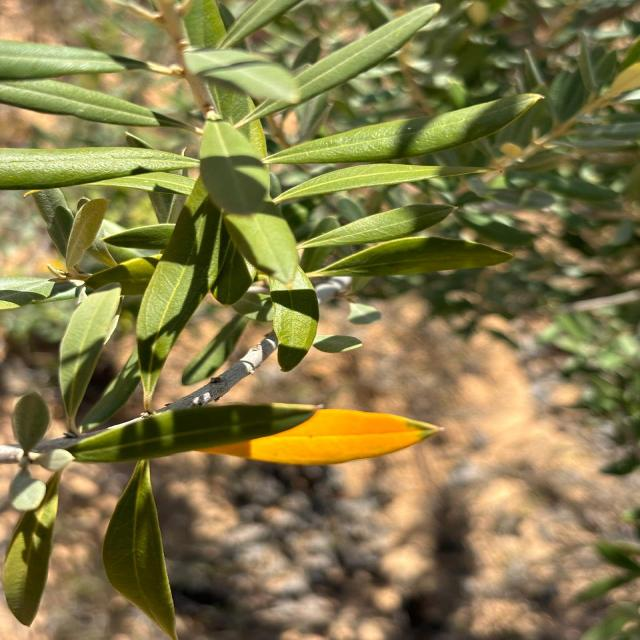Peacock Eye: (199, 409, 443, 464)
